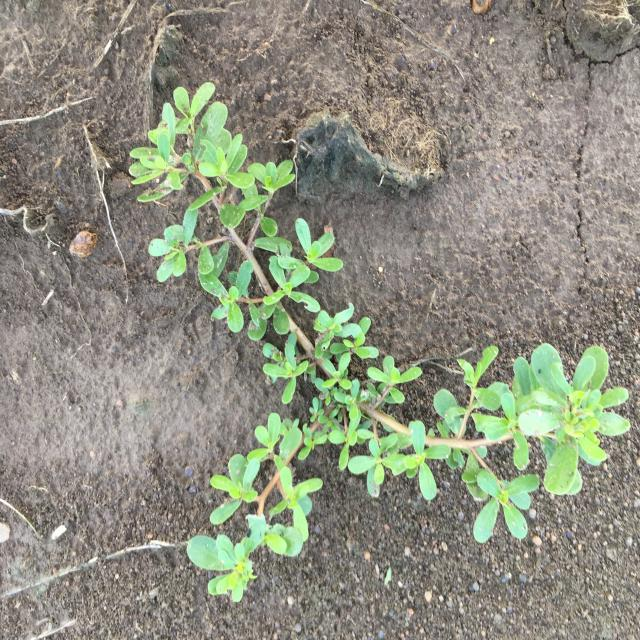Purslane: (128, 83, 632, 602)
